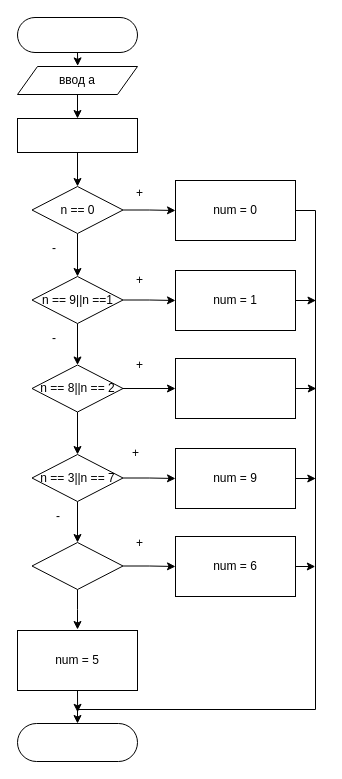
Image size: 342x779. Some labels were removed from this diagram. Here are the shapes that lost their labels. From the top down, the centre of each, then its label:
the point at 77,34: начало
the point at 77,135: n = a % 10
the point at 235,388: num = 4
the point at 77,566: n == 6||n==4
the point at 77,742: конец
